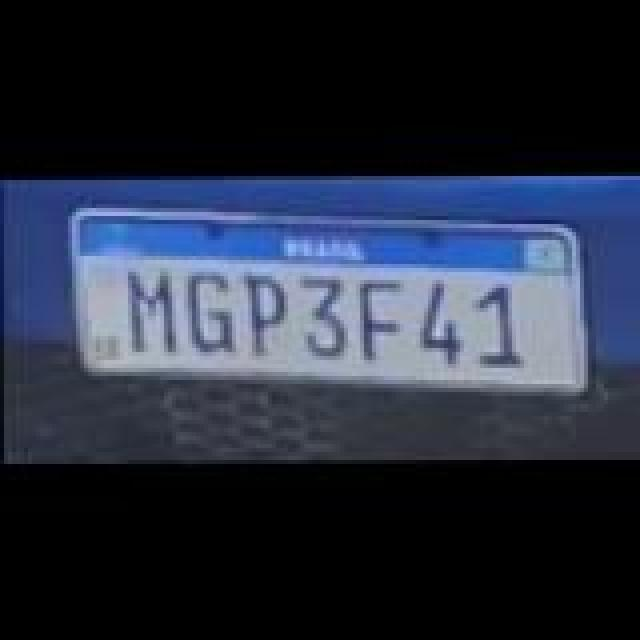1: (472, 284, 524, 368)
3: (292, 274, 352, 354)
4: (416, 280, 468, 364)
F: (354, 276, 410, 360)
G: (176, 268, 236, 352)
M: (124, 264, 184, 352)
P: (238, 268, 294, 352)
